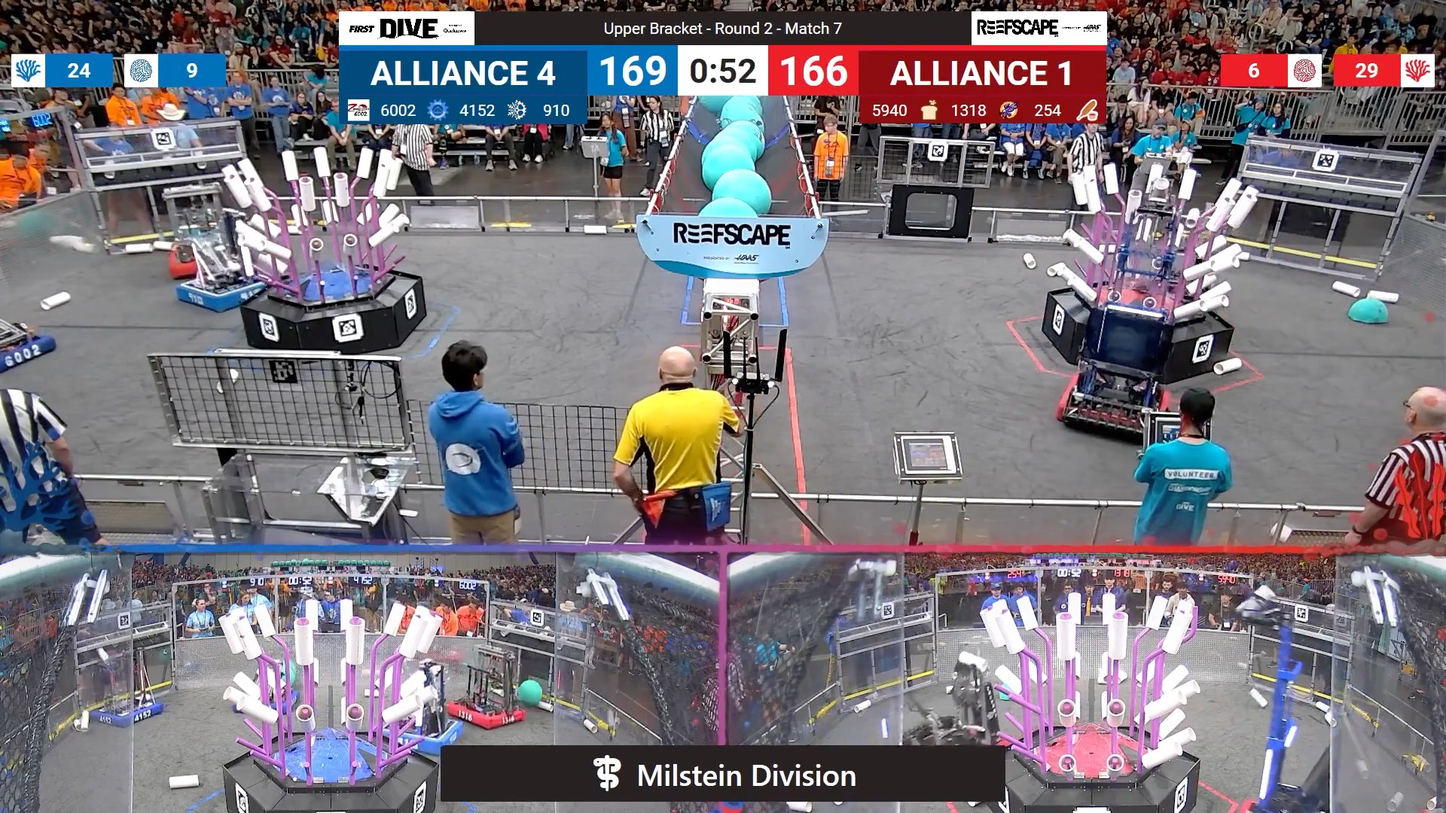bumpers: (1049, 371, 1184, 445), (169, 272, 275, 317), (378, 717, 473, 758), (0, 329, 64, 381), (86, 697, 172, 733), (441, 697, 527, 732), (170, 241, 244, 273)
